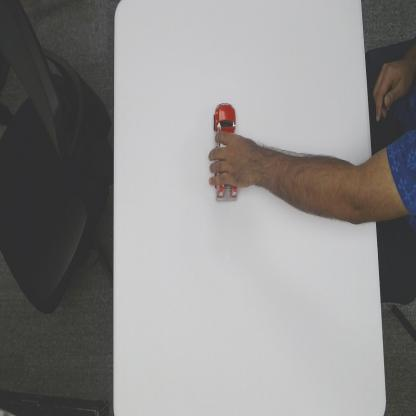Arm: (266, 133, 408, 228)
Firetruck: (212, 98, 240, 206)
Hand: (207, 128, 264, 192)
